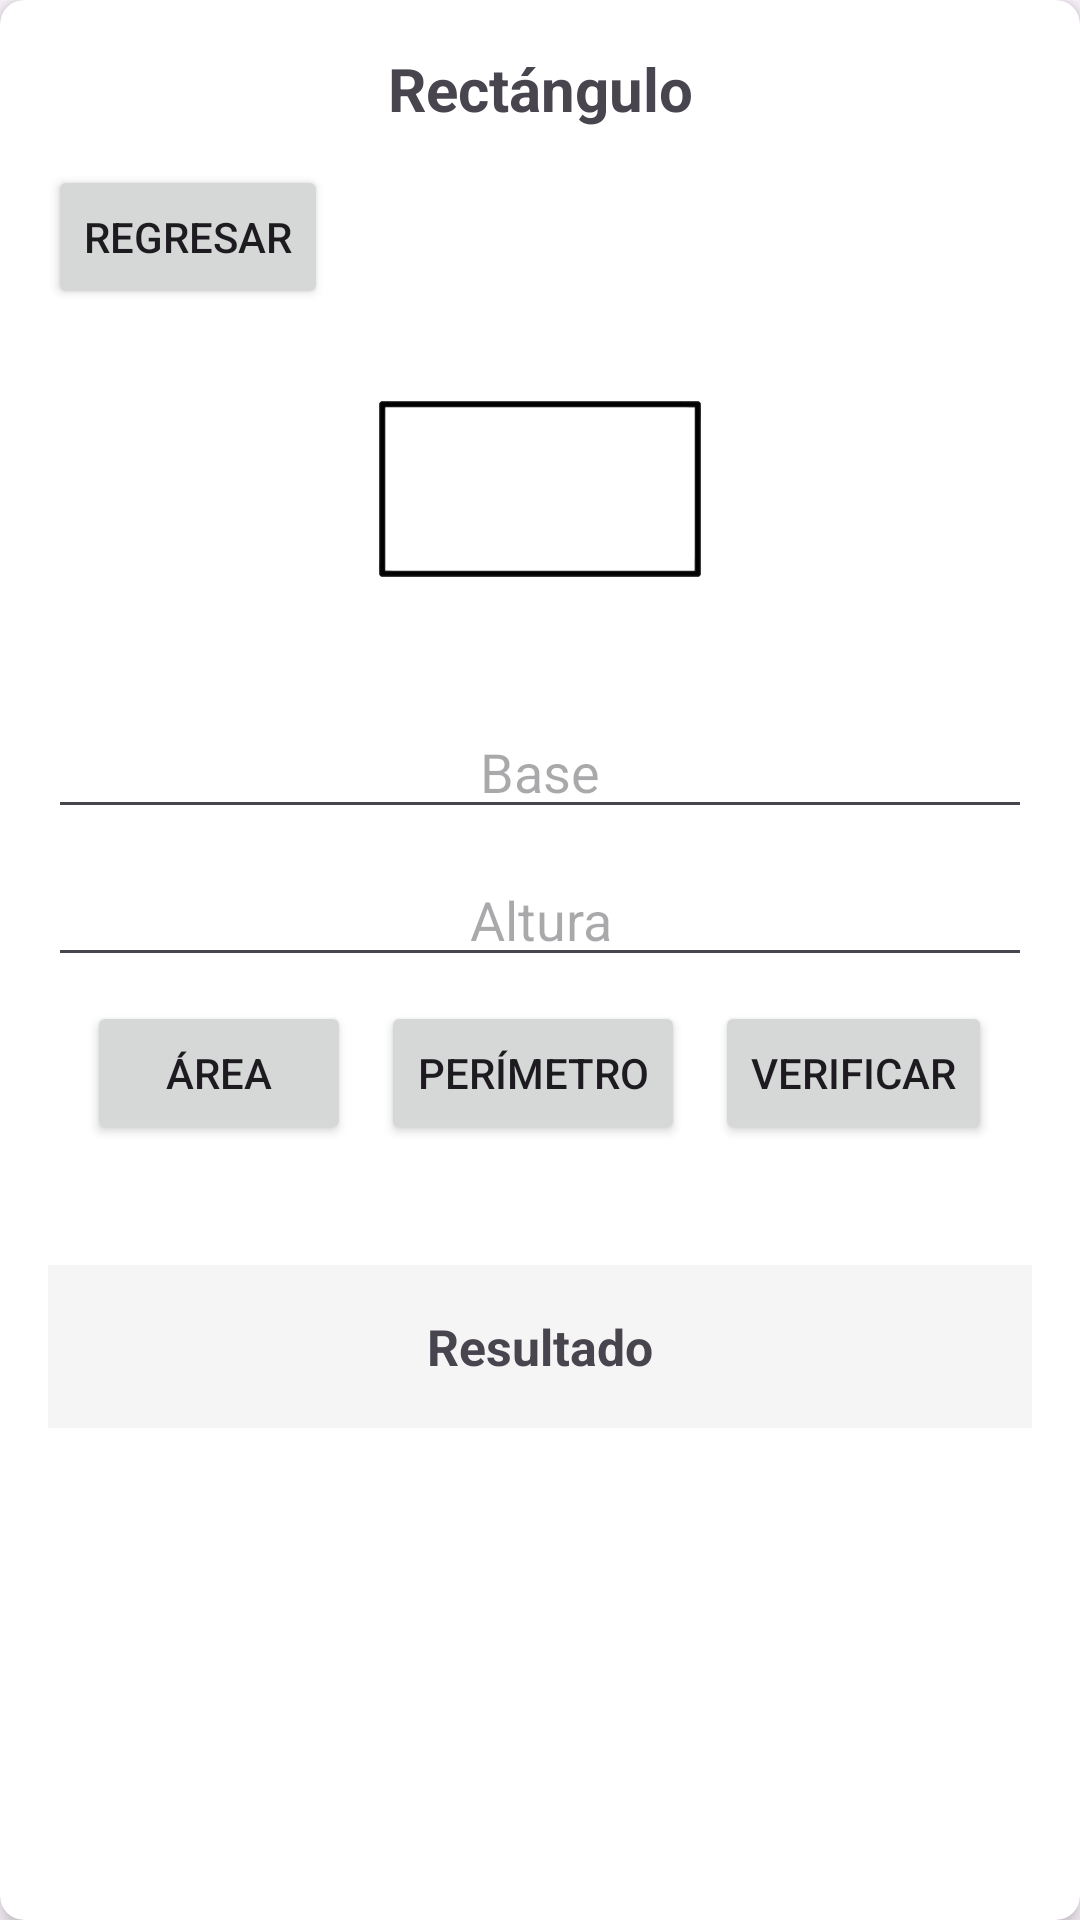

Locate icon controls on the screen. Image size 1080×1920, boxes as (x1, y1, x2, y2).
Imagen de rectángulo: (379, 401, 701, 577)
